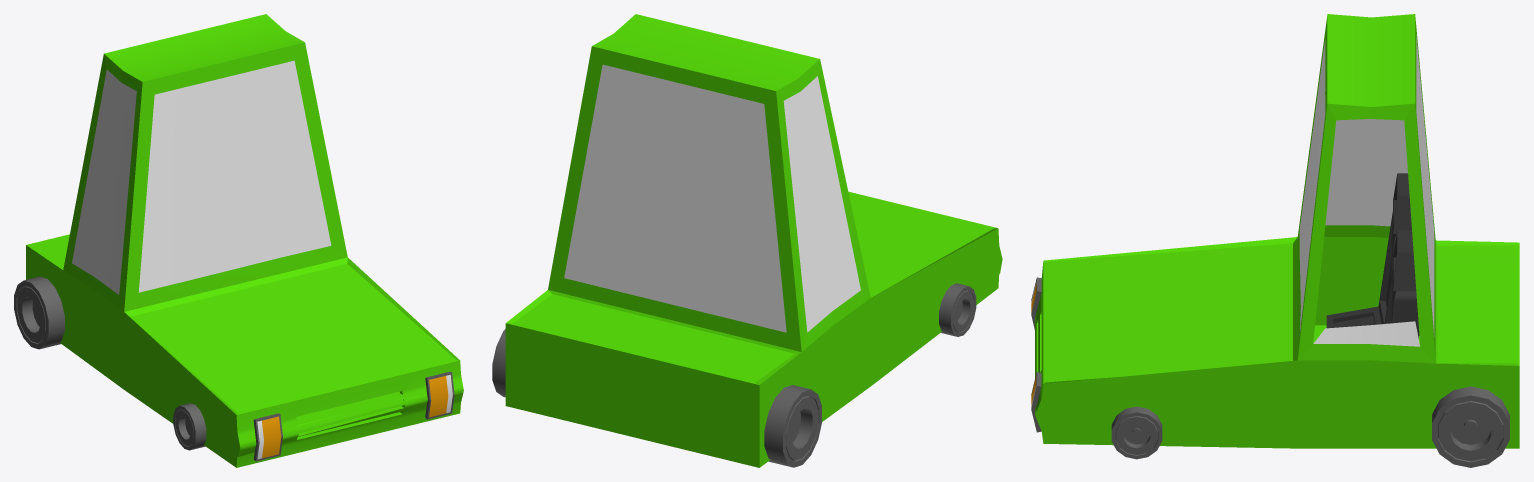
3 renders of one model, left to right at view 1: azimuth 30°, elevation 25°; view 2: azimuth 150°, elevation 25°; view 3: azimuth 270°, elevation 25°, orthographic. The views are drawn at different scales.
Visible parts, largest first — view 1: pCube4; view 2: pCube4; view 3: pCube4.
Part boxes in pixels (x1,y1,x2,y2): pCube4: [14, 14, 463, 467]; pCube4: [492, 14, 1002, 467]; pCube4: [1031, 14, 1519, 467].
Size of the model in its own units: 10.31 by 11.53 by 15.06.
